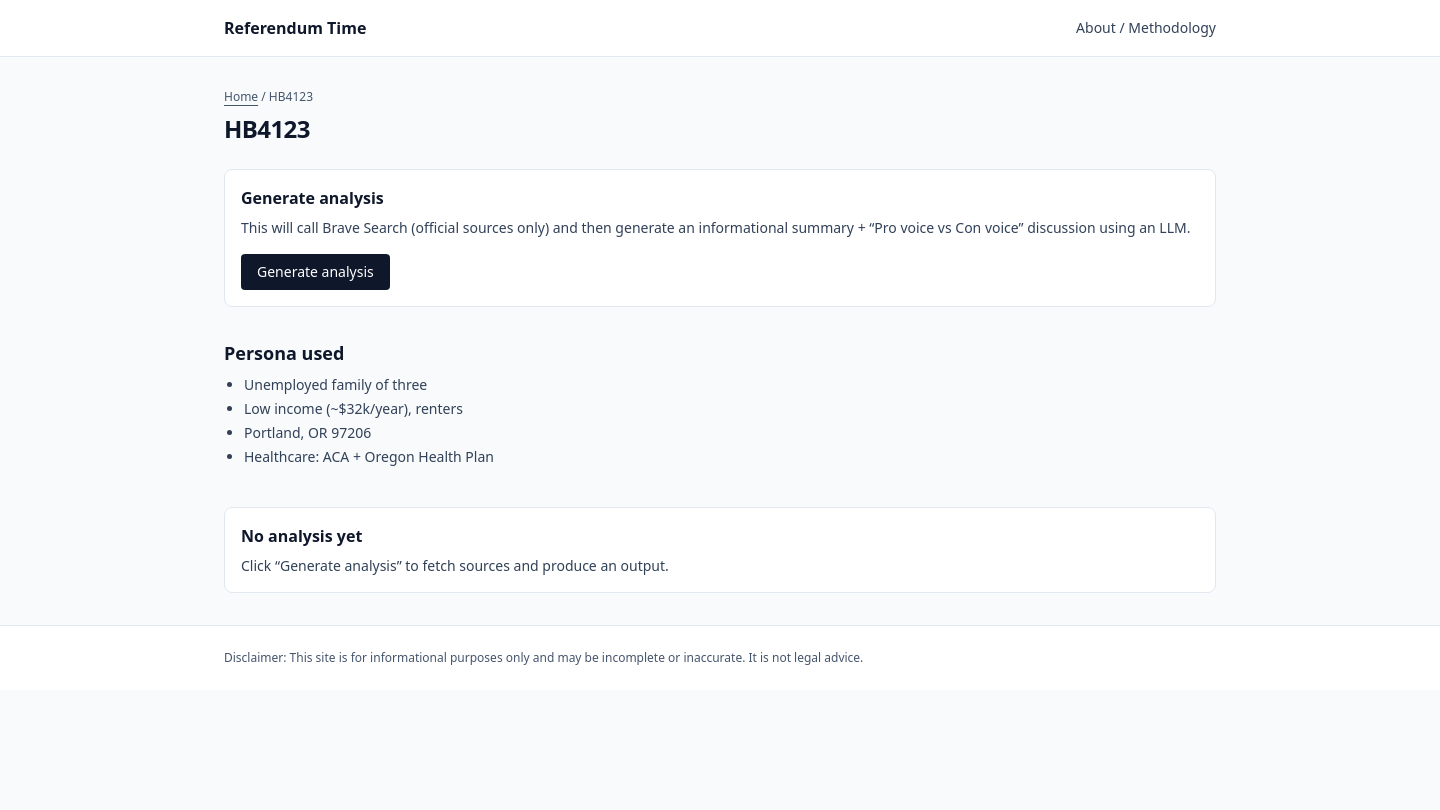
Test: BillPage › generates and renders analysis on success
This screenshot has width=1440, height=810.
Click the button "Generate analysis" at x=315, y=272, box x1=241 y1=254 x2=390 y2=290
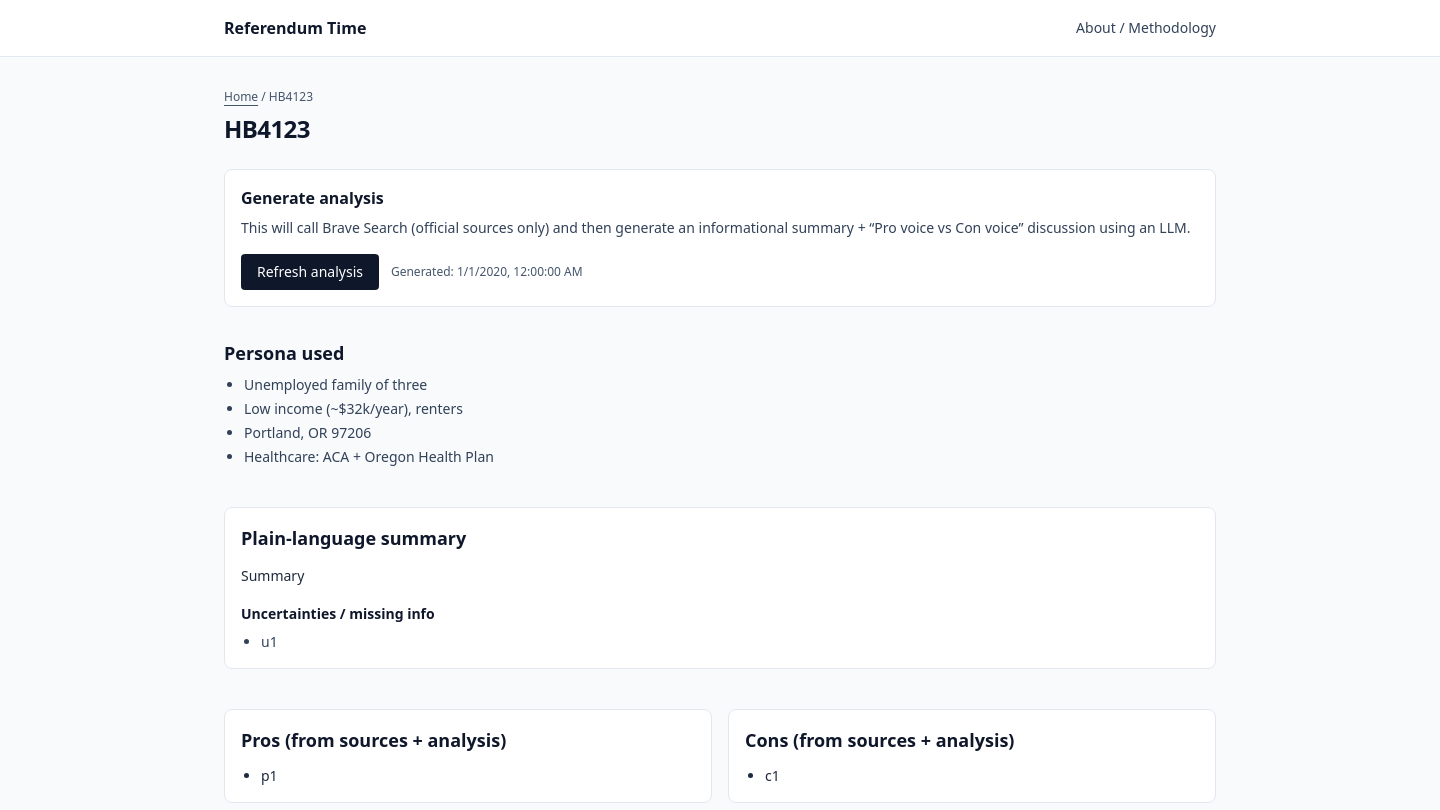
Now the heading "Plain-language summary" is shown, box x1=241 y1=526 x2=466 y2=550
Now the text "Summary" is shown, box x1=241 y1=566 x2=304 y2=585
Now the heading "Pros (from sources + analysis)" is shown, box x1=241 y1=728 x2=506 y2=752
